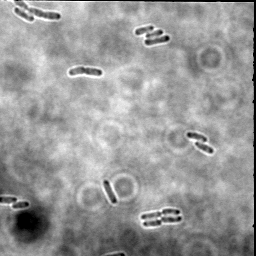Dividing: (14, 1, 62, 21), (142, 214, 182, 229), (139, 206, 181, 220), (68, 65, 103, 78)
Rod: (101, 179, 119, 205), (143, 33, 172, 47), (13, 6, 35, 24), (194, 140, 215, 156), (184, 131, 209, 143), (134, 23, 155, 36), (144, 28, 165, 40), (11, 200, 31, 210)
